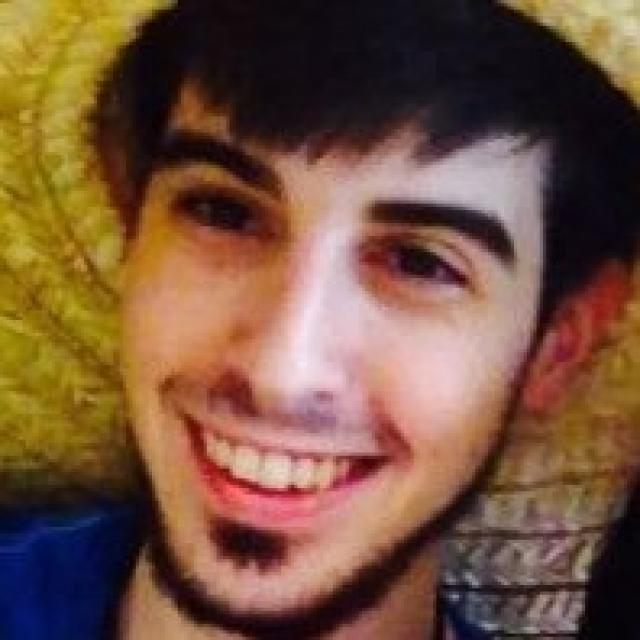Normal: (116, 55, 551, 621)
